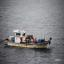fishing boat: (2, 26, 53, 51)
